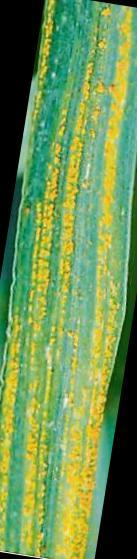Wheat: (44, 14, 124, 309), (18, 318, 83, 548)
